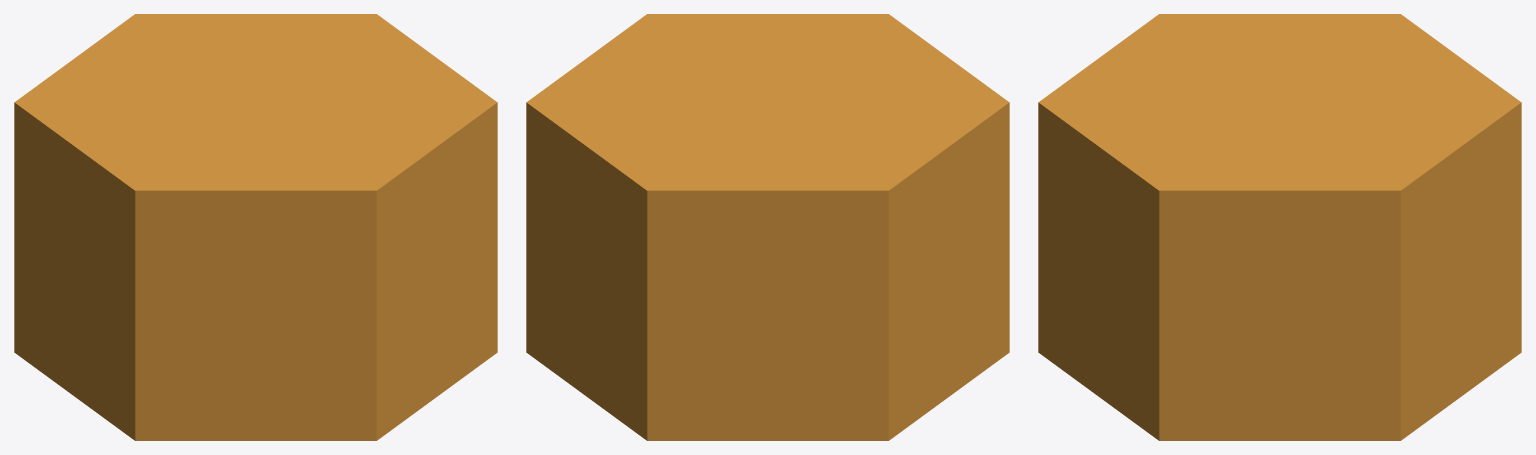
File: tier-t5.glb
The picture shows the model from 3 angles, left to right: view 1: azimuth 30°, elevation 25°; view 2: azimuth 150°, elevation 25°; view 3: azimuth 270°, elevation 25°; orthographic projection.
Visible parts, largest first — view 1: gem-t5-court-sealed; view 2: gem-t5-court-sealed; view 3: gem-t5-court-sealed.
Boxes of the visible parts, box(x1,y1,x2,y2) form: gem-t5-court-sealed: box(14, 14, 497, 440); gem-t5-court-sealed: box(526, 14, 1009, 440); gem-t5-court-sealed: box(1038, 14, 1521, 440).
Bounding box in the file's own units: 0.2425 × 0.16 × 0.28.
